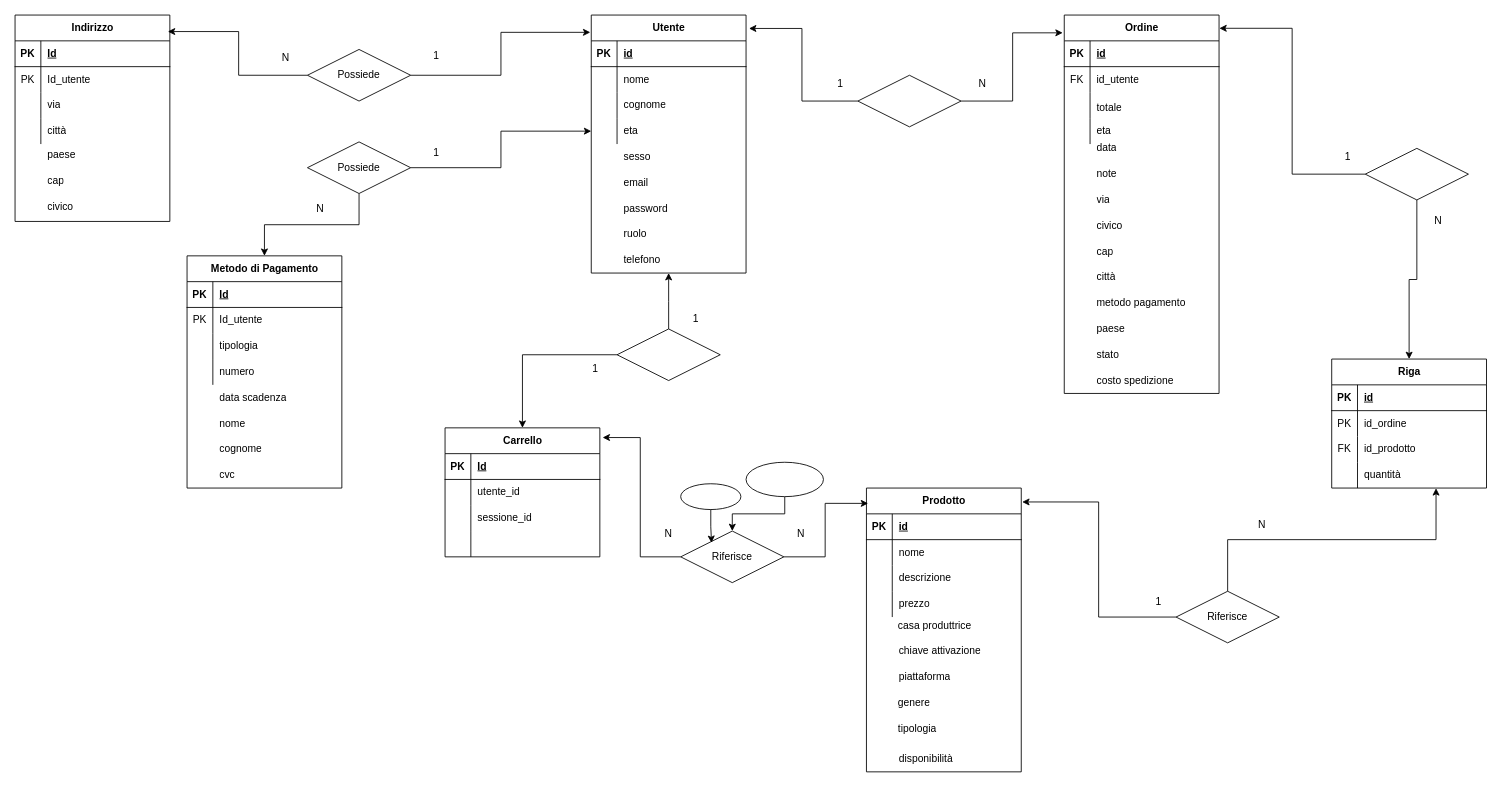
The diagram is 1502 pixels wide and 787 high, and some of its shapes have lost their labels. The centre of each missing label's shape, as x and y in pixels:
Appartiene: the point at 1416,173
data aggiunta: the point at 784,479
Effettua: the point at 909,100
Gestisce: the point at 668,354
qntità: the point at 710,496
